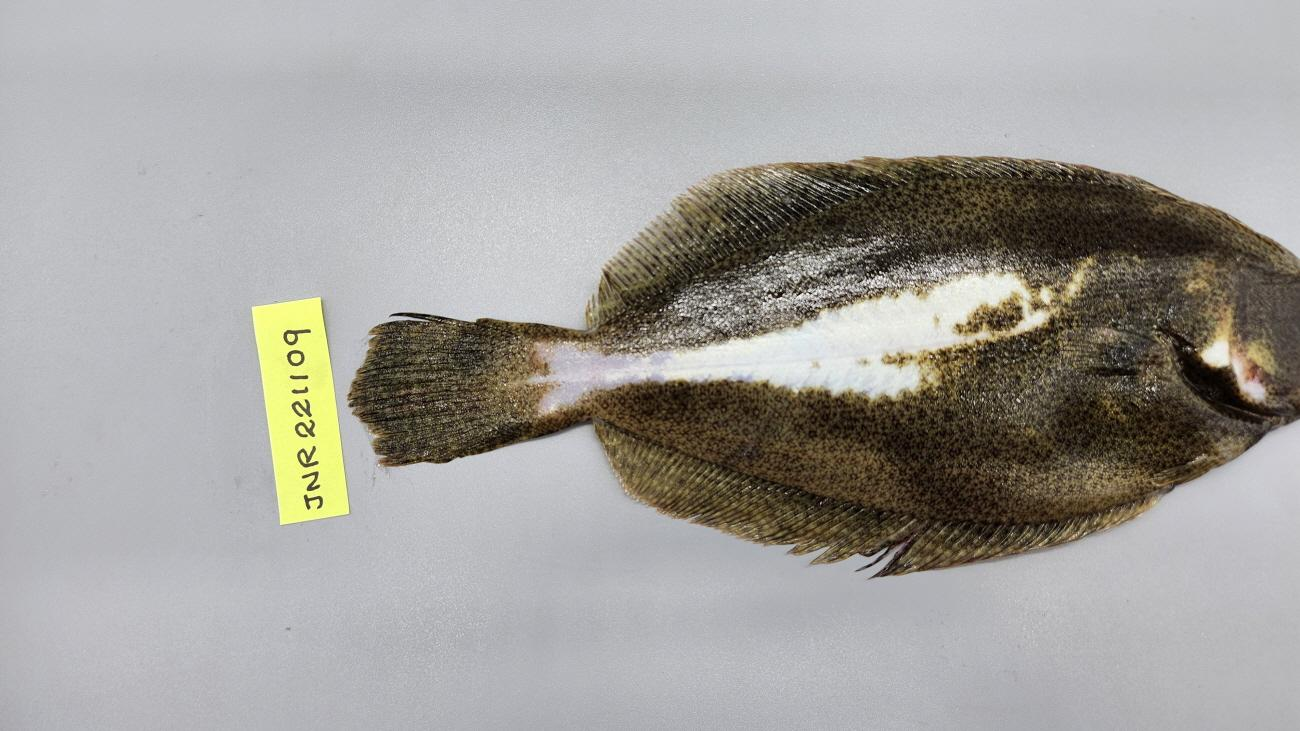POOUN: (347, 154, 1300, 582)
